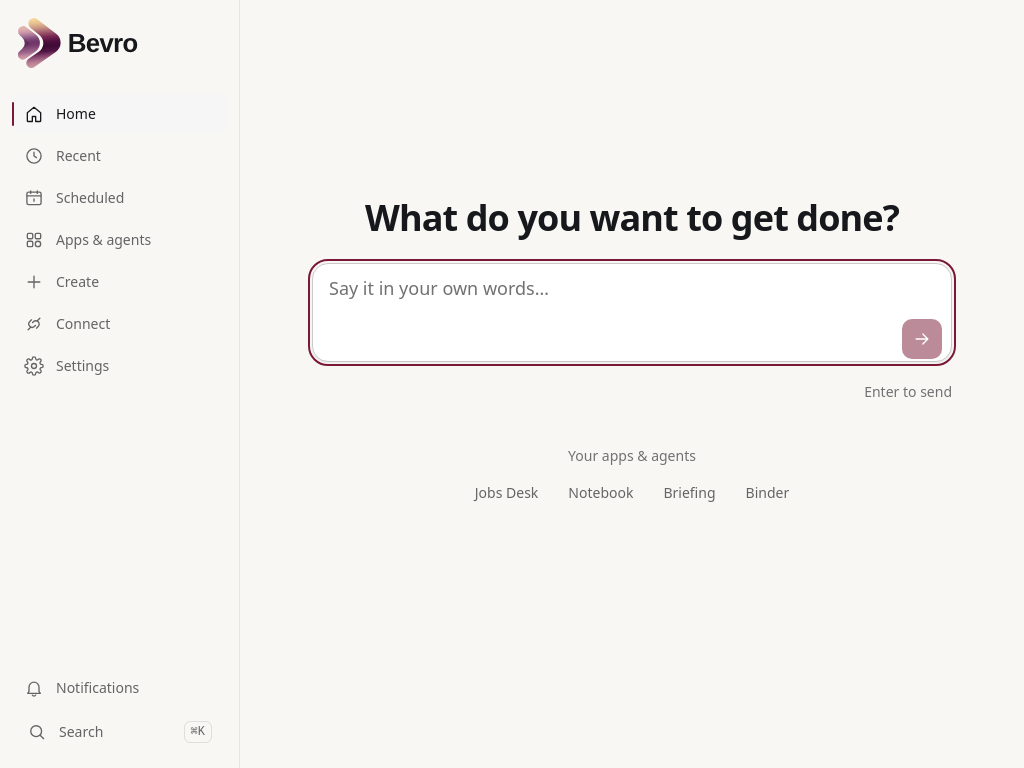
the right one being unreachable offers Try again and its app, and tries again for that one
The image size is (1024, 768).
Type "Where is my passport scan filed?" into the text box named "What do you want to get done?".
click(632, 313); type("Where is my passport scan filed?")  # box [312,263,952,362]
Then press Enter
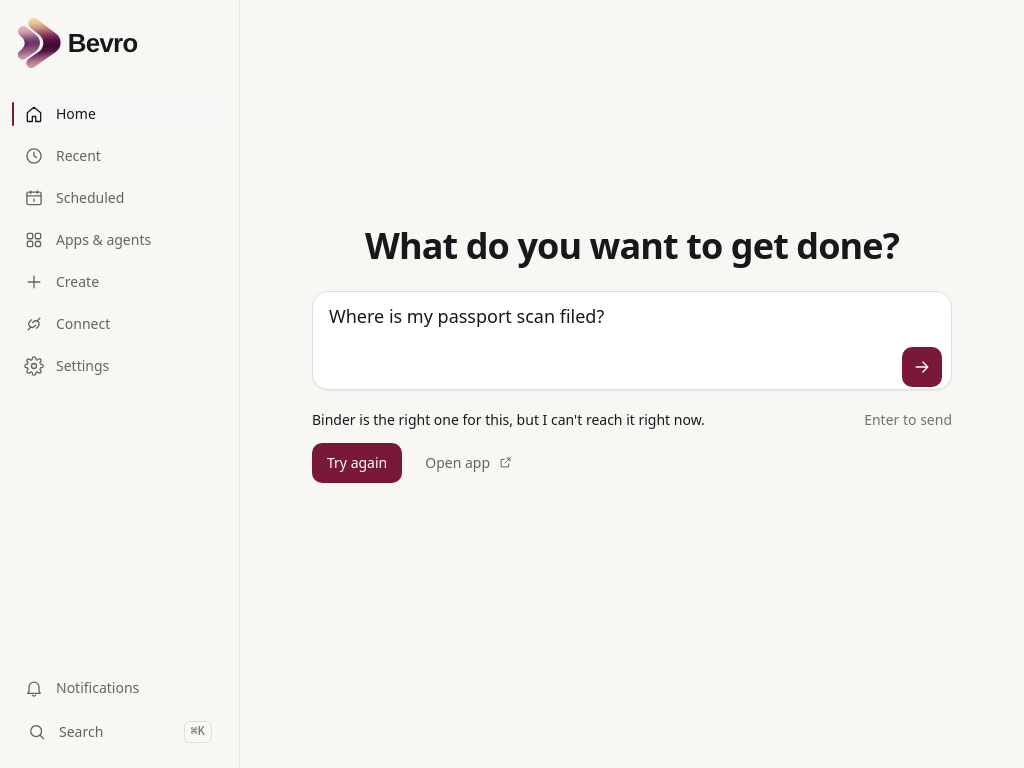
Click the button "Try again".
click(357, 463)  # box [312,443,402,483]
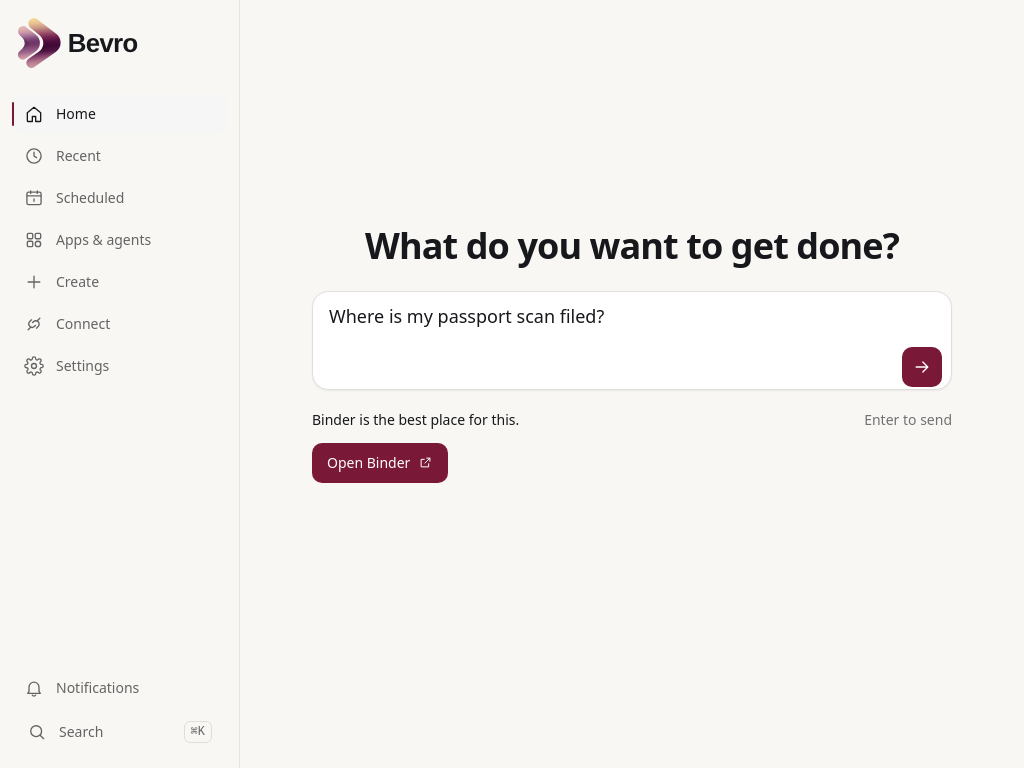
Expected: the element "Binder is the best place for this." is shown, [312,409,519,483]
